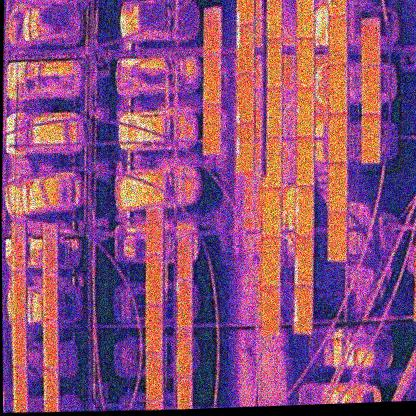Diode: (236, 73, 256, 124), (292, 284, 312, 334), (294, 236, 313, 288), (294, 185, 313, 235), (236, 24, 255, 74), (235, 124, 254, 172)
Hotspot: (295, 87, 314, 136)
Normal: (260, 235, 280, 290), (359, 17, 381, 67), (360, 64, 381, 114), (327, 211, 347, 262), (202, 54, 221, 107), (260, 286, 280, 336), (327, 112, 347, 162), (144, 253, 162, 308), (327, 64, 347, 113), (327, 161, 346, 212), (295, 37, 314, 88), (202, 5, 221, 56), (295, 137, 314, 187), (361, 113, 380, 163), (144, 353, 163, 403), (327, 15, 346, 65), (262, 187, 280, 239), (201, 105, 220, 154), (265, 86, 283, 137), (42, 221, 59, 274), (146, 204, 163, 256), (41, 319, 58, 371), (265, 137, 282, 188), (266, 38, 283, 88), (176, 229, 193, 278), (145, 303, 161, 355), (11, 318, 27, 369), (42, 365, 59, 412), (42, 269, 57, 322), (176, 278, 191, 329), (11, 267, 26, 318), (176, 327, 191, 378), (11, 223, 26, 270), (13, 366, 28, 412), (265, 0, 282, 39)
